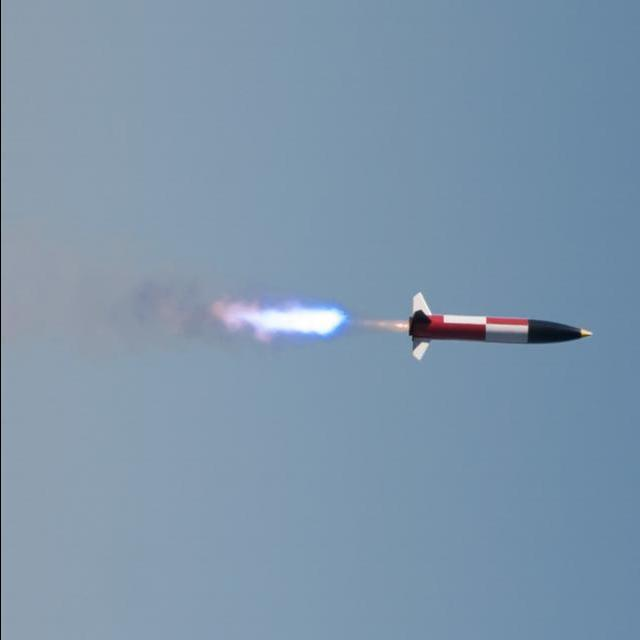Missile: (407, 289, 587, 373)
